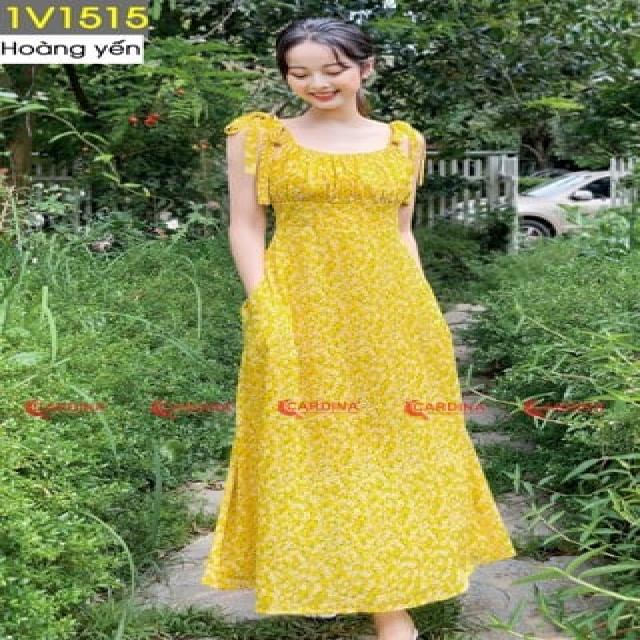clothes: (218, 109, 523, 621)
